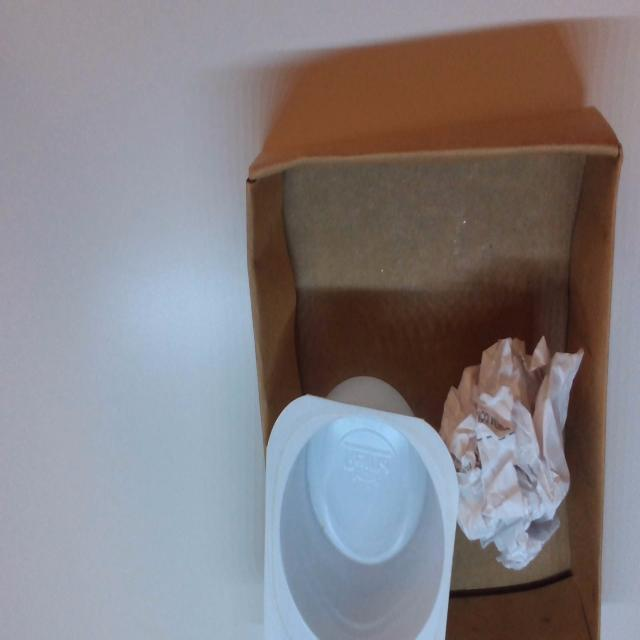Cardboard: (242, 101, 625, 640)
Paper: (442, 332, 588, 570)
Plastic: (264, 372, 461, 640)
